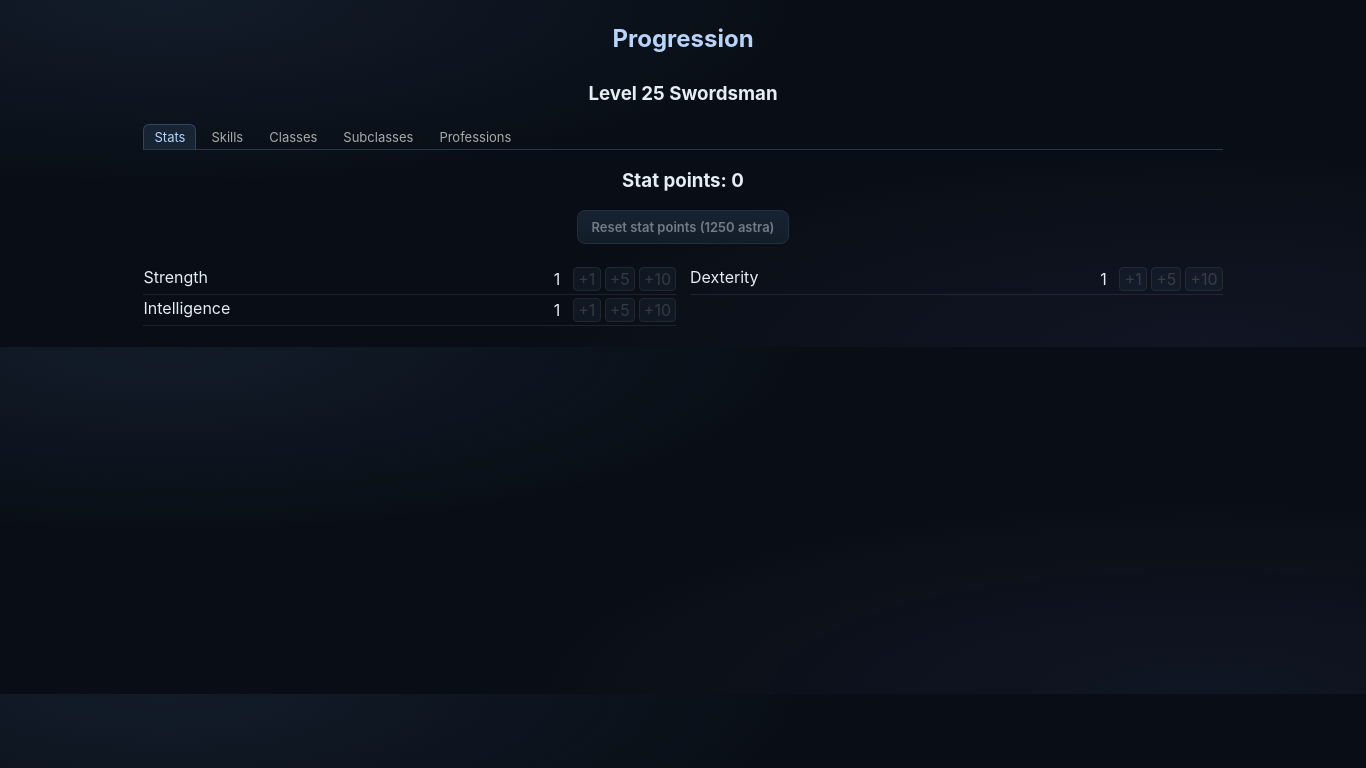
Test: mastery techniques are separate from shared learning and signatures need no skill slot
Click the tab "Skills": (227, 136) x1=200 y1=124 x2=254 y2=149
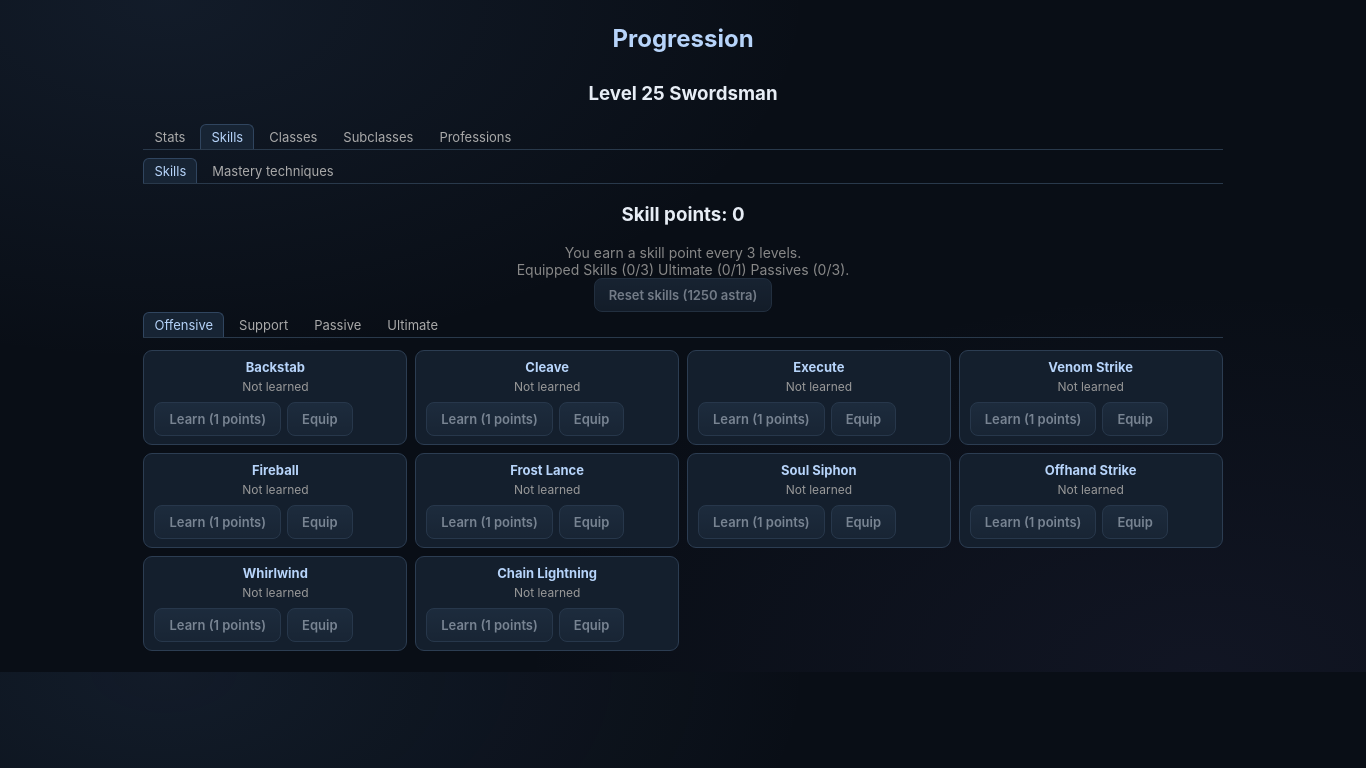
Click the tab "Mastery techniques": (273, 170) x1=201 y1=158 x2=345 y2=183
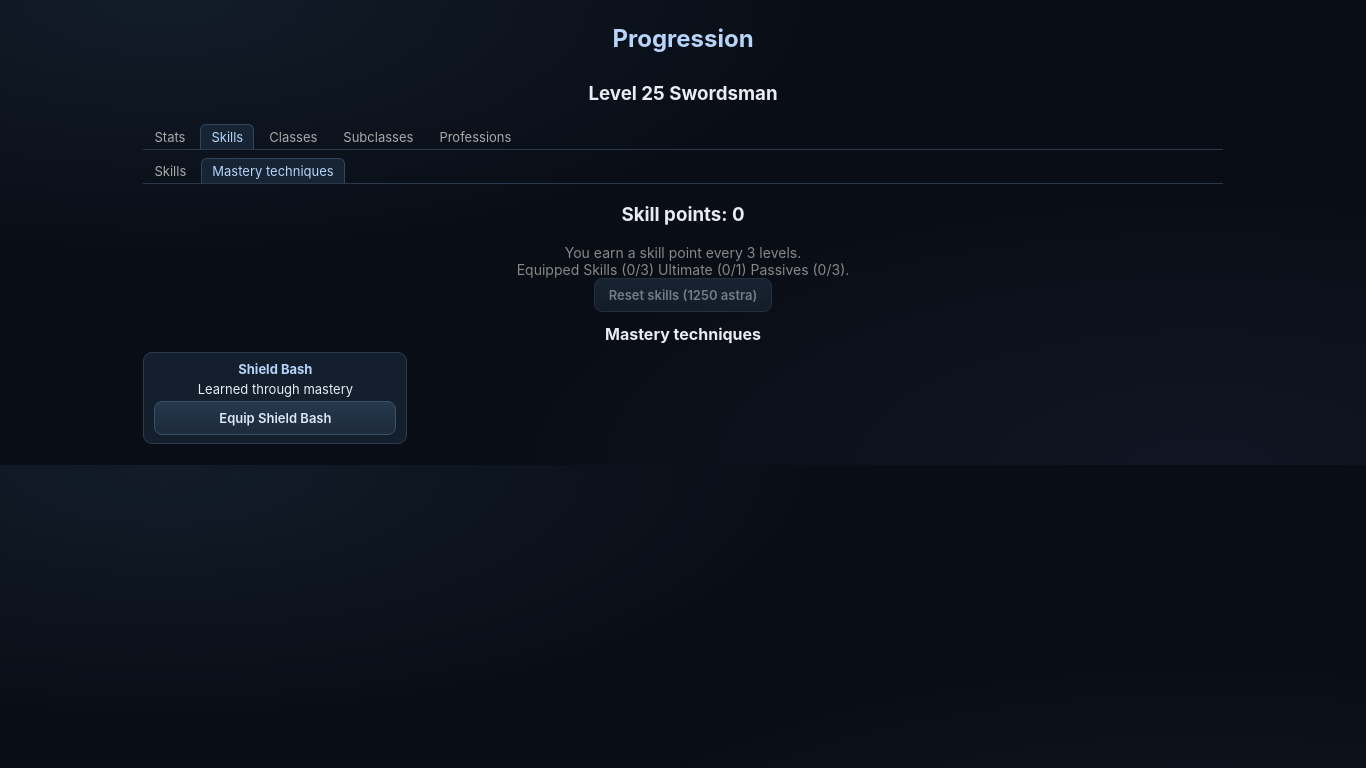
Now the button "Equip Shield Bash" is enabled, box x1=154 y1=401 x2=396 y2=435
